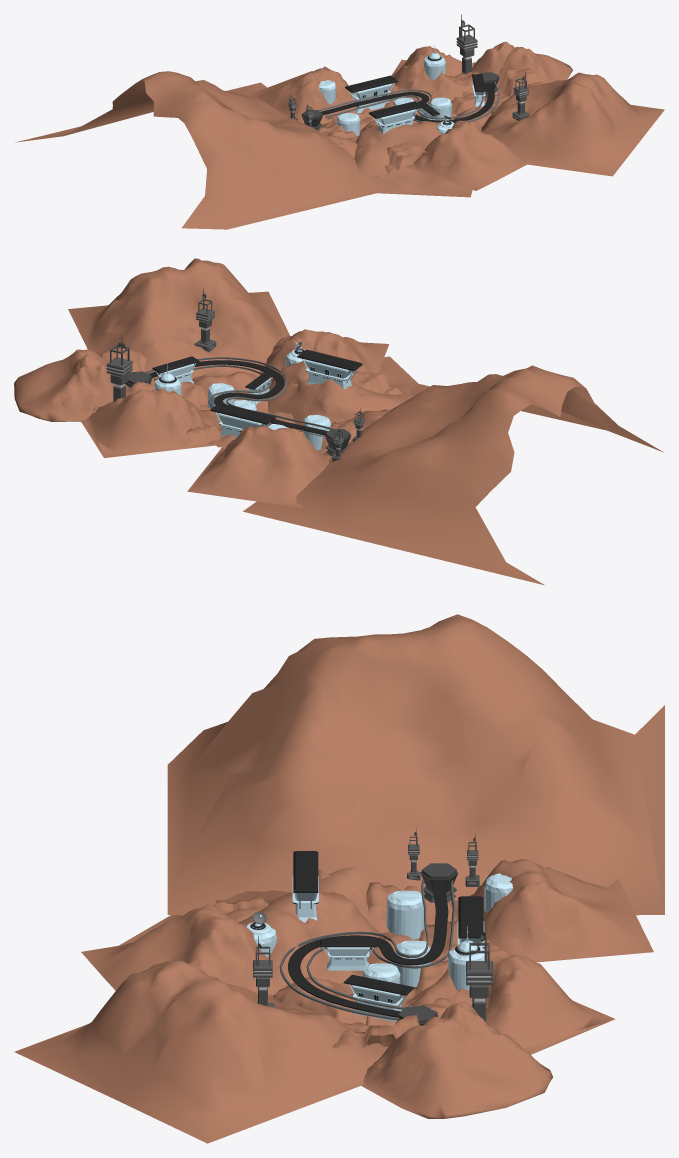
File: map2.fbx
3 views of the same model, one above another, from view 1: azimuth 30°, elevation 25°; view 2: azimuth 150°, elevation 25°; view 3: azimuth 270°, elevation 25° (orthographic). The views are drawn at different scales.
Parts seen in each view (by area): view 1: Landscape.001, Bounds, Building, tower, Path, Struct.003, Boundary.001, Boundary, Plane.001, Struct.002; view 2: Landscape.001, Building, Bounds, tower, Path, Struct.003, Boundary, Plane.001; view 3: Landscape.001, Building, Bounds, tower, Path, Struct.003, Plane.001, Boundary, Boundary.001, BaseStand, Struct.
Boxes of the visible parts, x1,y1,x2,y2 form: Landscape.001: (15,41,664,229); Bounds: (317,62,542,177); Building: (345,74,485,134); tower: (288,14,529,128); Path: (320,83,494,122); Struct.003: (424,44,454,134); Boundary.001: (318,89,483,119); Boundary: (325,82,499,122); Plane.001: (337,113,360,135); Struct.002: (429,97,451,120); Landscape.001: (14,258,663,585); Building: (152,349,362,437); Bounds: (80,348,413,448); tower: (106,288,364,461); Path: (148,360,327,435); Struct.003: (155,341,305,396); Boundary: (145,357,333,429); Plane.001: (303,415,331,450); Landscape.001: (14,614,664,1143); Building: (292,851,484,1021); Bounds: (215,869,514,1048); tower: (253,828,492,1024); Path: (288,881,448,1017); Struct.003: (246,911,484,990); Plane.001: (386,890,424,939); Boundary: (279,879,428,1020); Boundary.001: (306,880,455,1009); BaseStand: (420,863,457,902); Struct: (395,940,431,986).
Bounding box in the file's own units: 16818 × 3340 × 10451.
